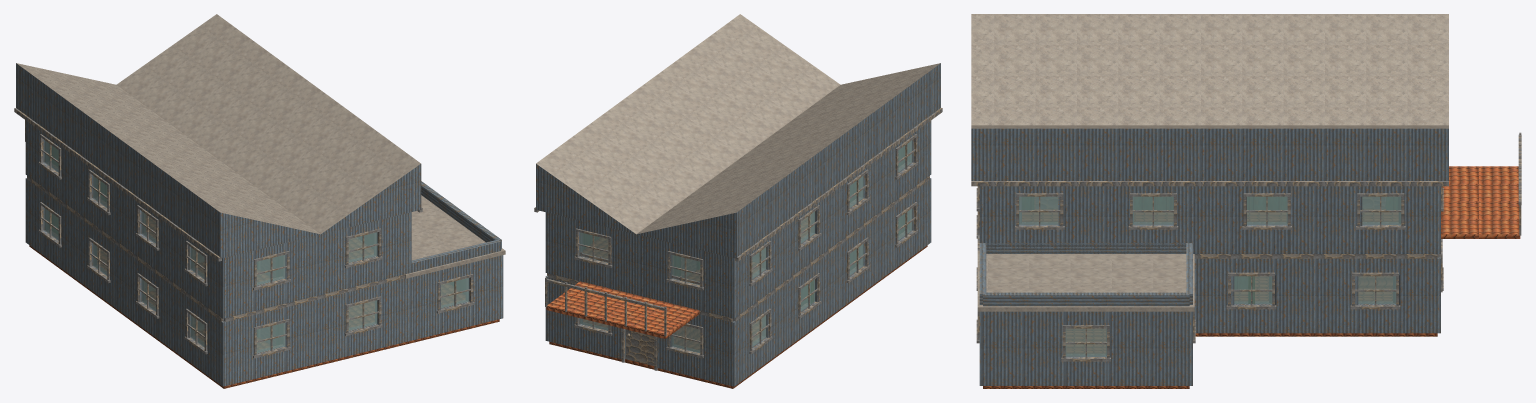
File: mews-corner.gltf
3 renders of one model, left to right at view 1: azimuth 30°, elevation 25°; view 2: azimuth 150°, elevation 25°; view 3: azimuth 270°, elevation 25°, orthographic. The views are drawn at different scales.
Parts seen in each view (by area): view 1: roof-L1-blue-metal, exterior-L0-concrete, exterior-L1-concrete, roof-L1-concrete, trim-L0-dark-wood, trim-L1-dark-wood, roof-L0-blue-metal, glazing-L0-glass, glazing-L1-glass, roof-L0-concrete, floor-L0-floor, exterior-L0-dark-wood (+2 smaller); view 2: roof-L1-blue-metal, exterior-L1-concrete, exterior-L0-concrete, roof-L1-concrete, balcony-L1-wood, trim-L1-dark-wood, trim-L0-dark-wood, glazing-L1-glass, glazing-L0-glass, balcony-L1-dark-wood, roof-L1-dark-wood, floor-L0-floor (+3 smaller); view 3: roof-L1-blue-metal, exterior-L0-concrete, roof-L1-concrete, exterior-L1-concrete, roof-L0-blue-metal, roof-L0-concrete, balcony-L1-wood, glazing-L1-glass, trim-L1-dark-wood, glazing-L0-glass, floor-L0-floor, trim-L0-dark-wood (+4 smaller).
Boxes of the visible parts, x1,y1,x2,y2 form: roof-L1-blue-metal: (16,14,420,234); exterior-L0-concrete: (25,178,503,386); exterior-L1-concrete: (25,120,411,318); roof-L1-concrete: (16,63,421,258); trim-L0-dark-wood: (38,202,474,358); trim-L1-dark-wood: (38,134,382,290); roof-L0-blue-metal: (405,195,505,278); glazing-L0-glass: (44,208,468,352); glazing-L1-glass: (44,140,377,284); roof-L0-concrete: (358,181,501,273); floor-L0-floor: (29,245,499,388); exterior-L0-dark-wood: (27,175,405,321); roof-L1-blue-metal: (536,14,940,234); exterior-L1-concrete: (545,120,931,318); exterior-L0-concrete: (545,178,931,386); roof-L1-concrete: (536,63,940,258); balcony-L1-wood: (546,281,699,338); trim-L1-dark-wood: (574,134,918,290); trim-L0-dark-wood: (574,202,918,370); glazing-L1-glass: (580,140,912,284); glazing-L0-glass: (580,208,912,352); balcony-L1-dark-wood: (545,252,700,336); roof-L1-dark-wood: (534,108,942,261); floor-L0-floor: (549,245,927,388); roof-L1-blue-metal: (971,14,1448,128); exterior-L0-concrete: (979,257,1440,385); roof-L1-concrete: (971,128,1448,180); exterior-L1-concrete: (979,186,1440,253); roof-L0-blue-metal: (977,250,1194,311); roof-L0-concrete: (979,243,1192,306); balcony-L1-wood: (1441,166,1520,238); glazing-L1-glass: (1019,196,1401,224); trim-L1-dark-wood: (976,186,1443,229); glazing-L0-glass: (1065,276,1396,356); floor-L0-floor: (983,277,1437,388); trim-L0-dark-wood: (976,211,1443,361).
Size of the model in its own units: 9.48 by 5.68 by 13.31.
Materials: 8 (7 with a texture image).
